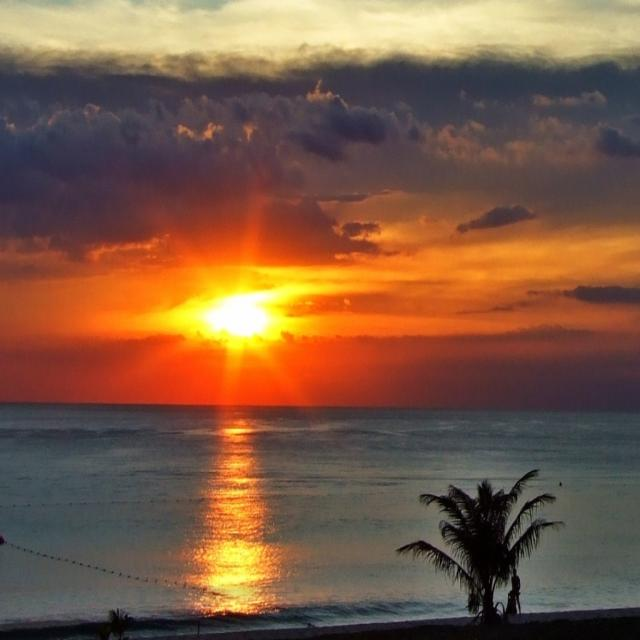no_fire: (21, 172, 452, 467)
